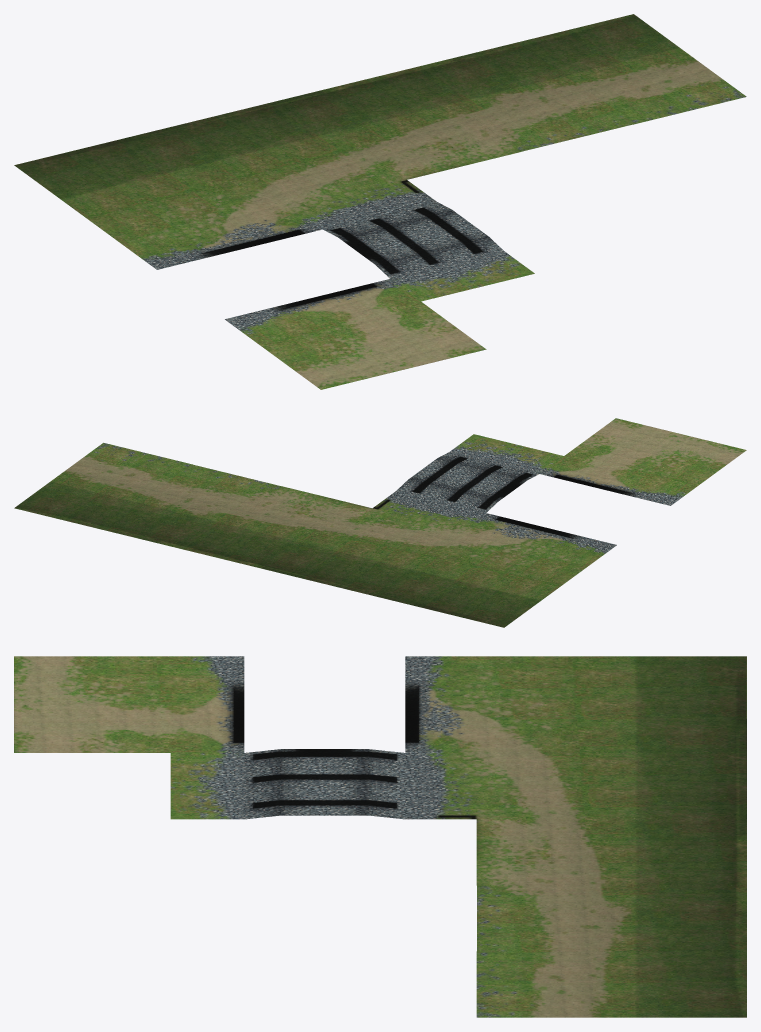
3 renders of one model, top to bottom at view 1: azimuth 30°, elevation 25°; view 2: azimuth 150°, elevation 25°; view 3: azimuth 270°, elevation 25°, orthographic. The views are drawn at different scales.
Visible parts, largest first — view 1: pl5; view 2: pl5; view 3: pl5.
Part boxes in pixels (x1,y1,x2,y2): pl5: (14, 14, 746, 389); pl5: (14, 418, 746, 627); pl5: (14, 656, 746, 1017).
Bounding box in the file's own units: 16.21 × 0.0806 × 13.91.
